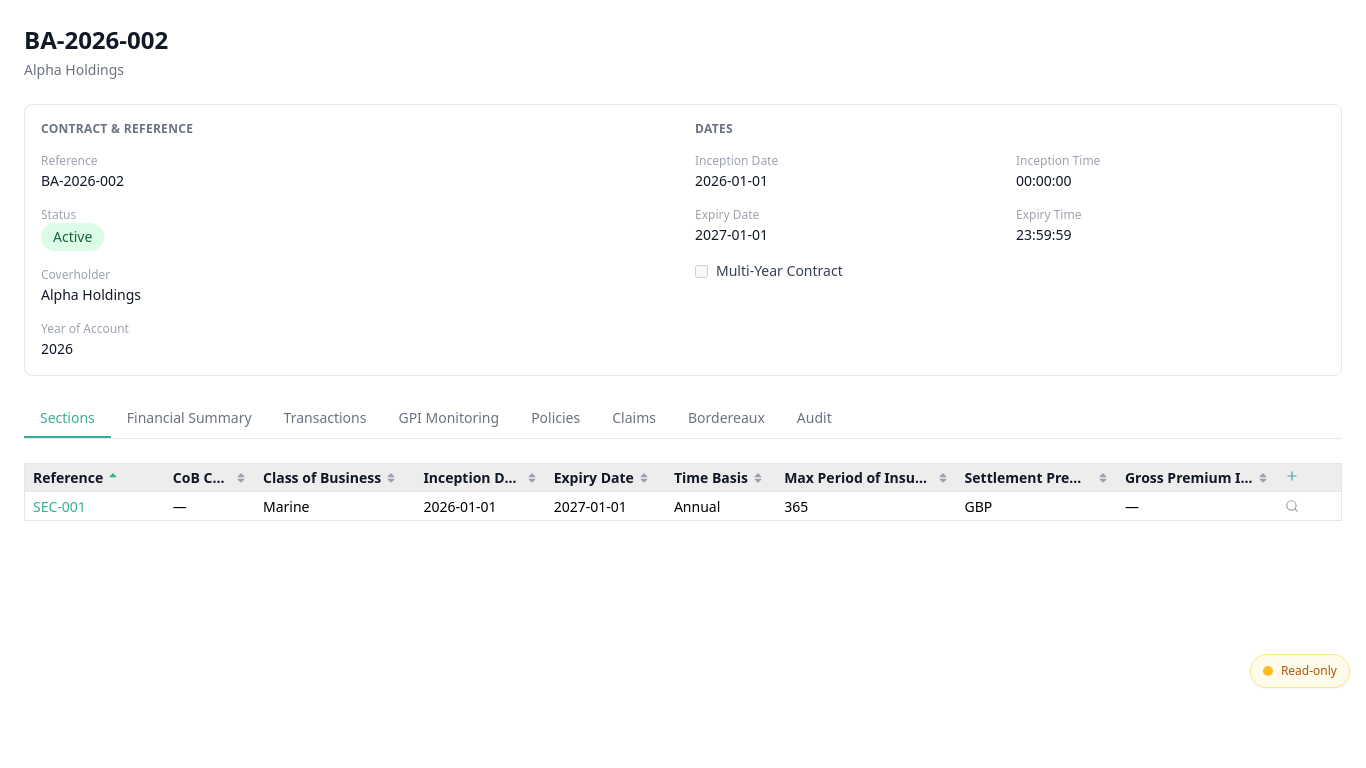
Test case: BAViewPage â€” Transactions Tab › T-BA-FE-F-R047 â€” Transactions table renders Type, Amount, Currency, Date, Description columns
Expected: the heading "BA-2026-002" is shown, x1=24 y1=24 x2=168 y2=56
What coordinates should you click on to do the following:
click the button "Transactions"
I would click on:
 (325, 419)
Its box is x1=268 y1=400 x2=382 y2=438.
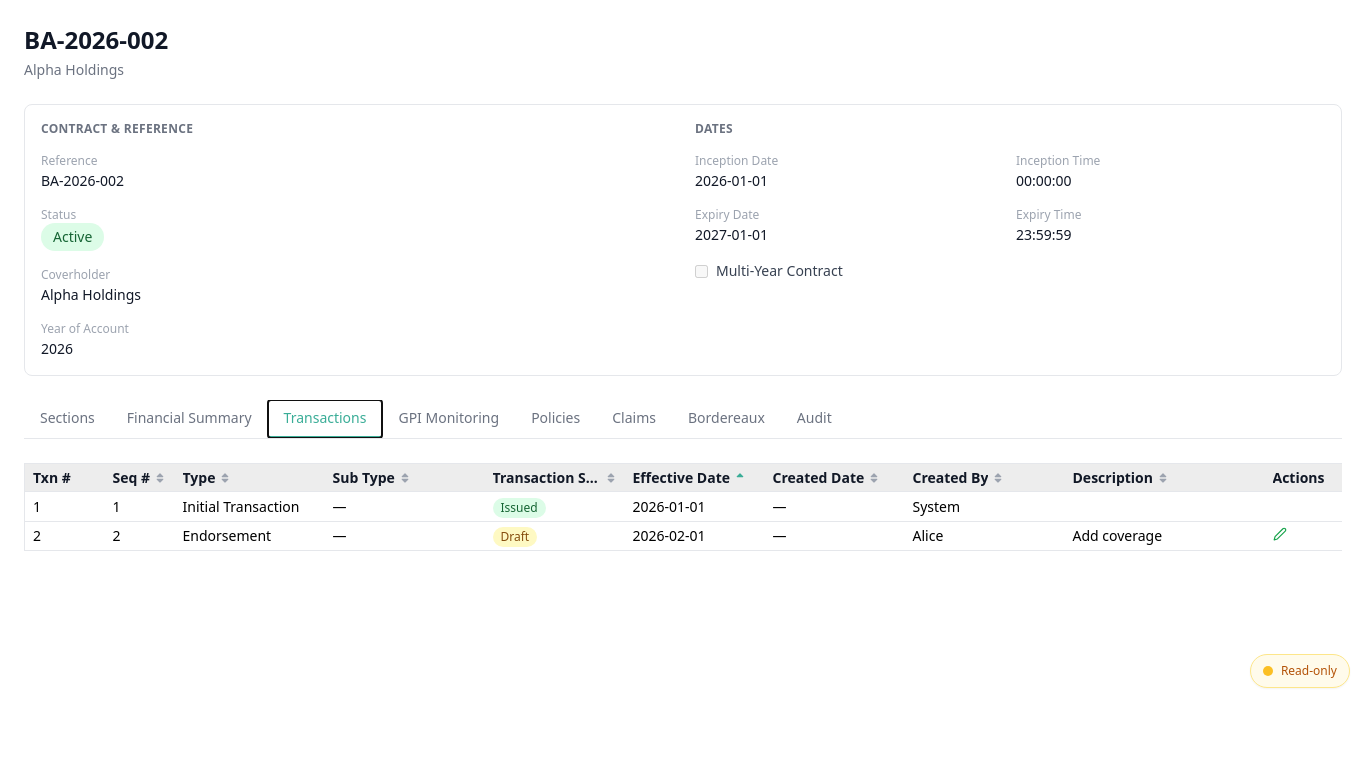
Expected: the text "Effective Date" is shown, x1=632 y1=467 x2=730 y2=488
Expected: the text "Created By" is shown, x1=912 y1=467 x2=988 y2=488
Expected: the text "Type" is shown, x1=182 y1=467 x2=215 y2=488
